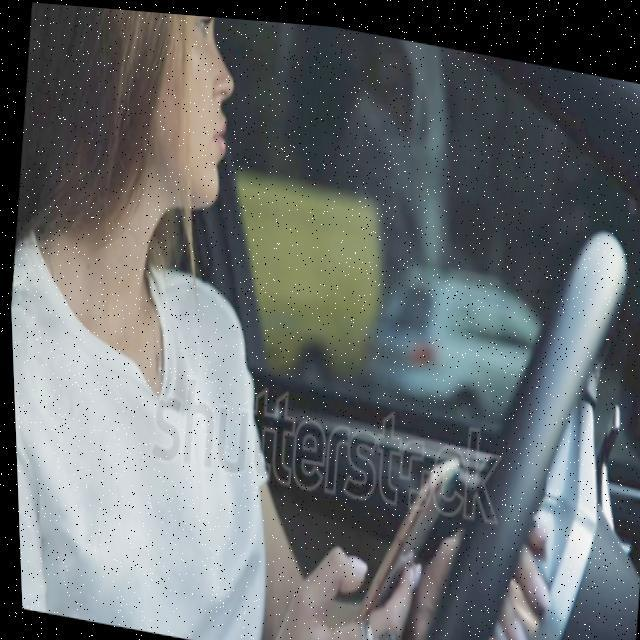PhoneCall: (348, 424, 462, 628)
